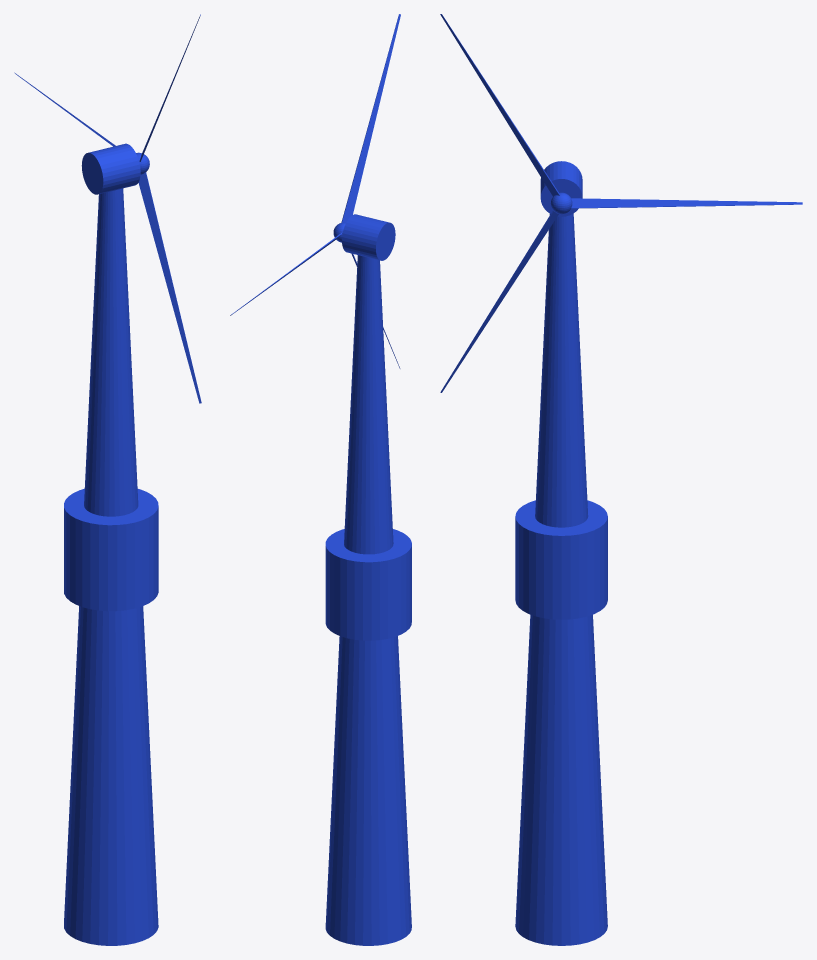
The model's file is pala_torre.fbx.
3 views of the same model, side by side, from view 1: azimuth 30°, elevation 25°; view 2: azimuth 150°, elevation 25°; view 3: azimuth 270°, elevation 25° (orthographic). The views are drawn at different scales.
Parts seen in each view (by area): view 1: Torre, Pale; view 2: Torre, Pale; view 3: Torre, Pale.
Boxes of the visible parts, bbox=[...] form: Torre: bbox=[64, 143, 158, 945]; Pale: bbox=[14, 14, 201, 403]; Torre: bbox=[325, 214, 411, 945]; Pale: bbox=[230, 14, 400, 368]; Torre: bbox=[515, 161, 607, 945]; Pale: bbox=[440, 14, 802, 392].
Size of the model in its own units: 200 by 2208 by 784.
